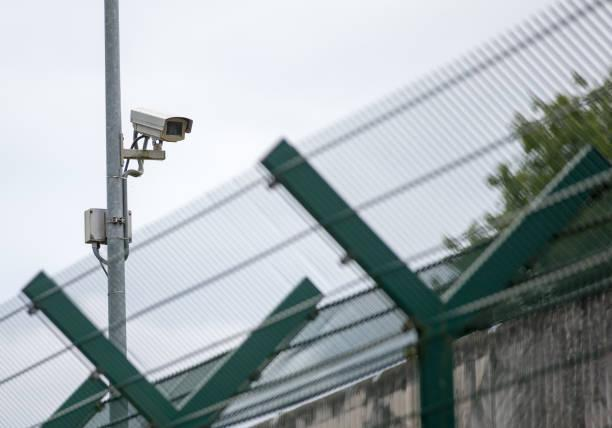camera: (112, 92, 206, 159)
